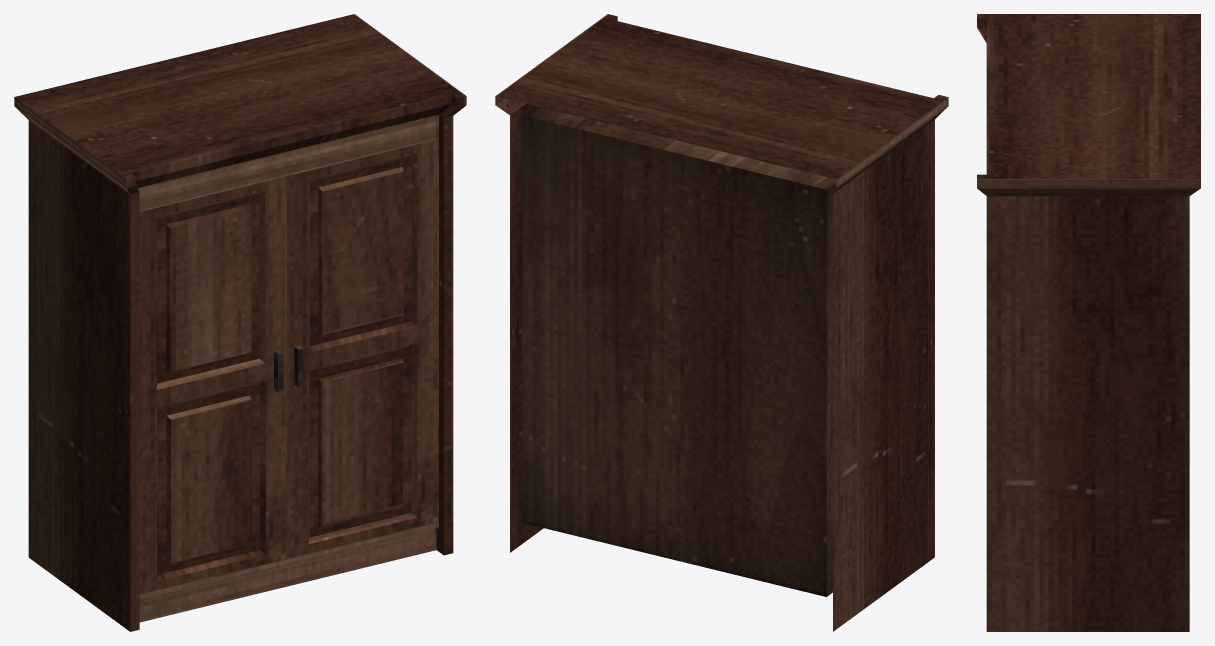
File: closet.fbx
3 views of the same model, side by side, from view 1: azimuth 30°, elevation 25°; view 2: azimuth 150°, elevation 25°; view 3: azimuth 270°, elevation 25° (orthographic).
Visible parts, largest first — view 1: closet, closet_door_02, closet_door_01; view 2: closet; view 3: closet.
Part boxes in pixels (x1,y1,x2,y2): closet: (14,14,466,631); closet_door_02: (287,139,438,558); closet_door_01: (139,176,286,594); closet: (495,14,948,631); closet: (977,14,1200,631).
Size of the model in its own units: 167 by 215 by 95.58.
1 material, 1 textured.
